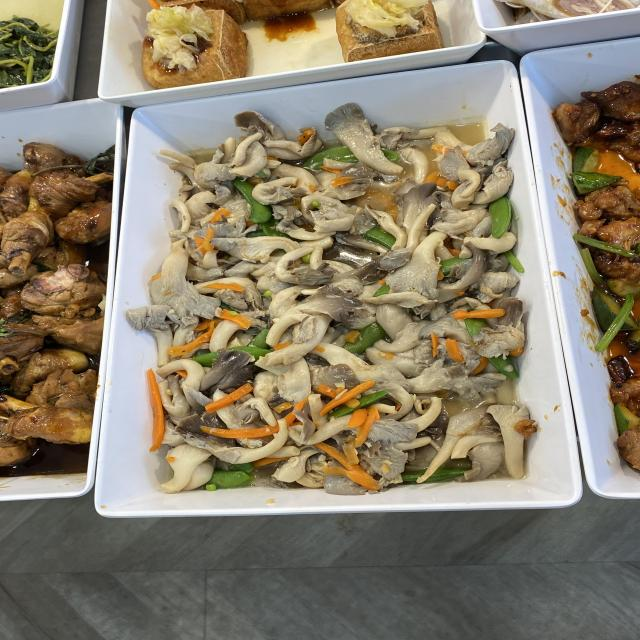Fushan-lettuceStir-fried Sweet Beans with Oyster Mushrooms: (179, 174, 499, 462)
